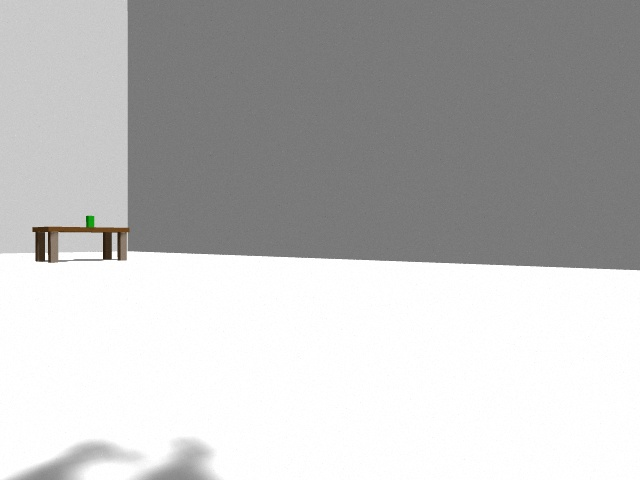green_cube: (86, 216, 94, 227)
